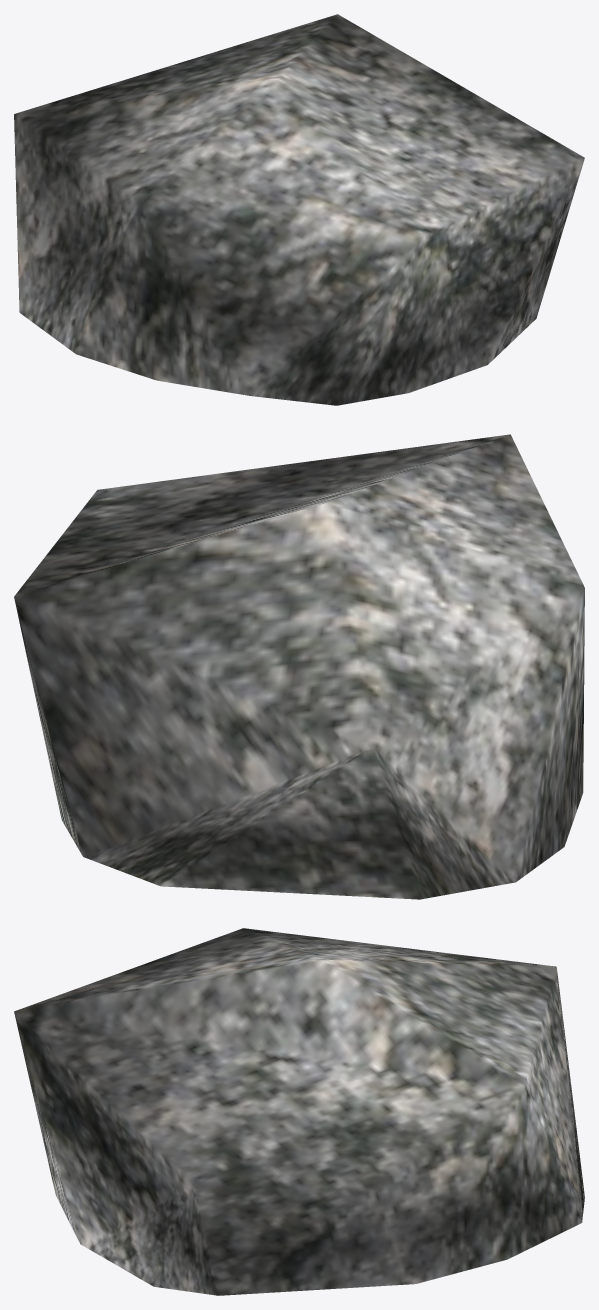
The model's file is stone3_tex2.fbx.
The picture shows the model from 3 angles, top to bottom: view 1: azimuth 30°, elevation 25°; view 2: azimuth 150°, elevation 25°; view 3: azimuth 270°, elevation 25°; orthographic projection. The views are drawn at different scales.
Visible parts, largest first — view 1: stone3_tex2Object; view 2: stone3_tex2Object; view 3: stone3_tex2Object.
Part boxes in pixels (left/top/right/bottom): stone3_tex2Object: left=14, top=14, right=584, bottom=405; stone3_tex2Object: left=14, top=434, right=584, bottom=899; stone3_tex2Object: left=14, top=928, right=584, bottom=1295.
Size of the model in its own units: 0.823 by 0.3973 by 0.8573.
1 material, 1 textured.
